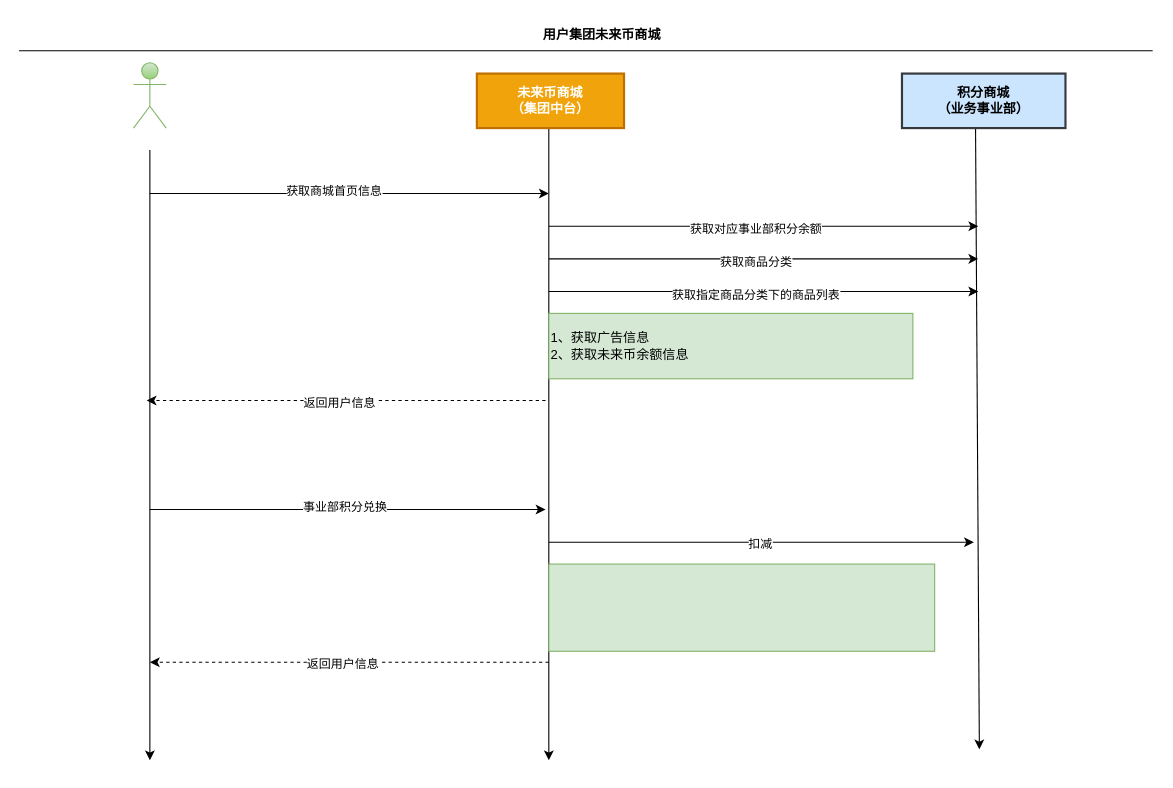
The diagram is 1173 pixels wide and 788 high, and some of its shapes have lost their labels. Here are the shapes that lost their labels. From the top down, the box of each, then its label:
(132, 62, 166, 128): 用户
(548, 563, 935, 651): 1、根据汇率计算可兑换的未来币数量 2、扣除事业部对应积分 3、增加未来币
